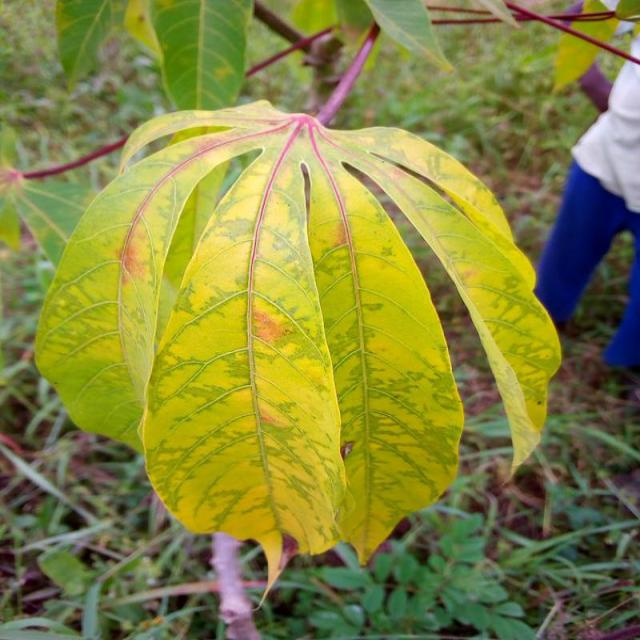cassava leaf: (32, 98, 562, 605)
